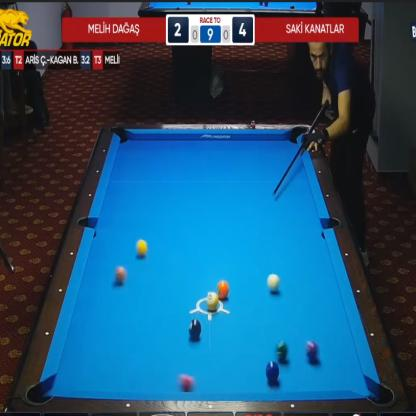Ball: (265, 361, 280, 381), (188, 318, 202, 338), (276, 340, 288, 361), (206, 291, 218, 311), (305, 340, 317, 360), (268, 273, 280, 292), (114, 266, 126, 284), (217, 281, 229, 299), (180, 374, 192, 392), (136, 239, 147, 256)
